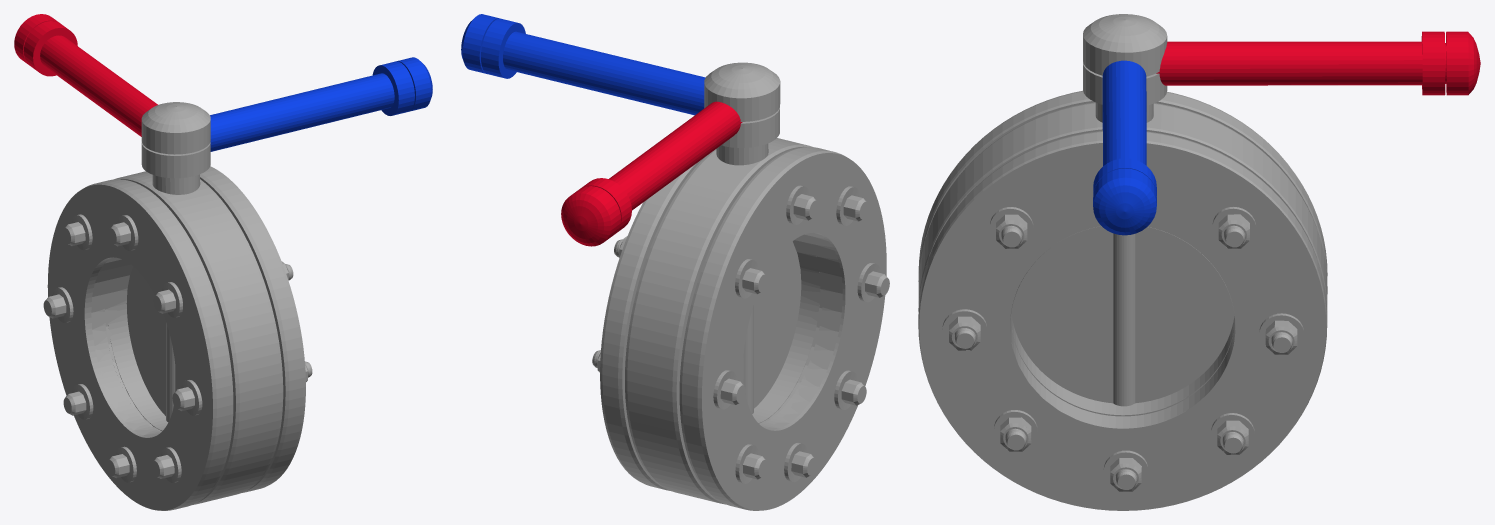
The model's file is new Klapon.fbx.
The picture shows the model from 3 angles, left to right: view 1: azimuth 30°, elevation 25°; view 2: azimuth 150°, elevation 25°; view 3: azimuth 270°, elevation 25°; orthographic projection. The views are drawn at different scales.
Parts seen in each view (by area): view 1: Фальга.012, Фальга.006; view 2: Фальга.012, Фальга.006; view 3: Фальга.012, Фальга.006.
Boxes of the visible parts, left/top/right/bottom form: Фальга.012: left=14, top=14, right=312, bottom=510; Фальга.006: left=50, top=57, right=432, bottom=510; Фальга.012: left=561, top=62, right=889, bottom=510; Фальга.006: left=461, top=14, right=884, bottom=497; Фальга.012: left=918, top=14, right=1480, bottom=510; Фальга.006: left=919, top=36, right=1326, bottom=510.
Size of the model in its own units: 21111 by 24362 by 26734.
